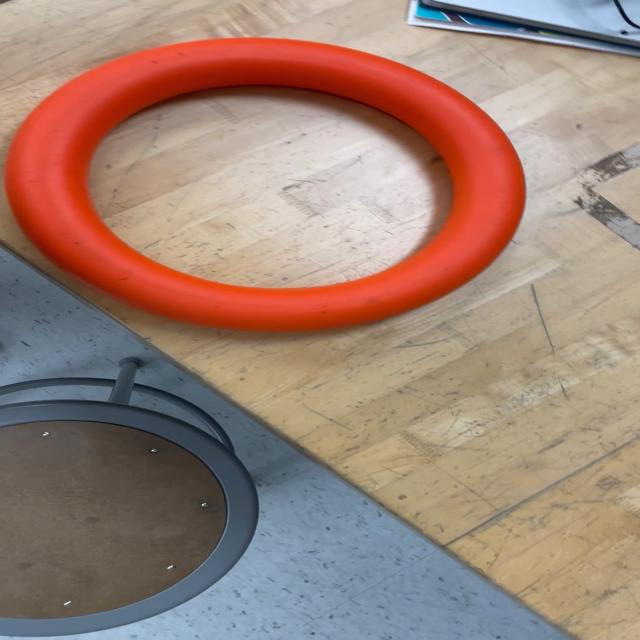note: (0, 37, 529, 333)
